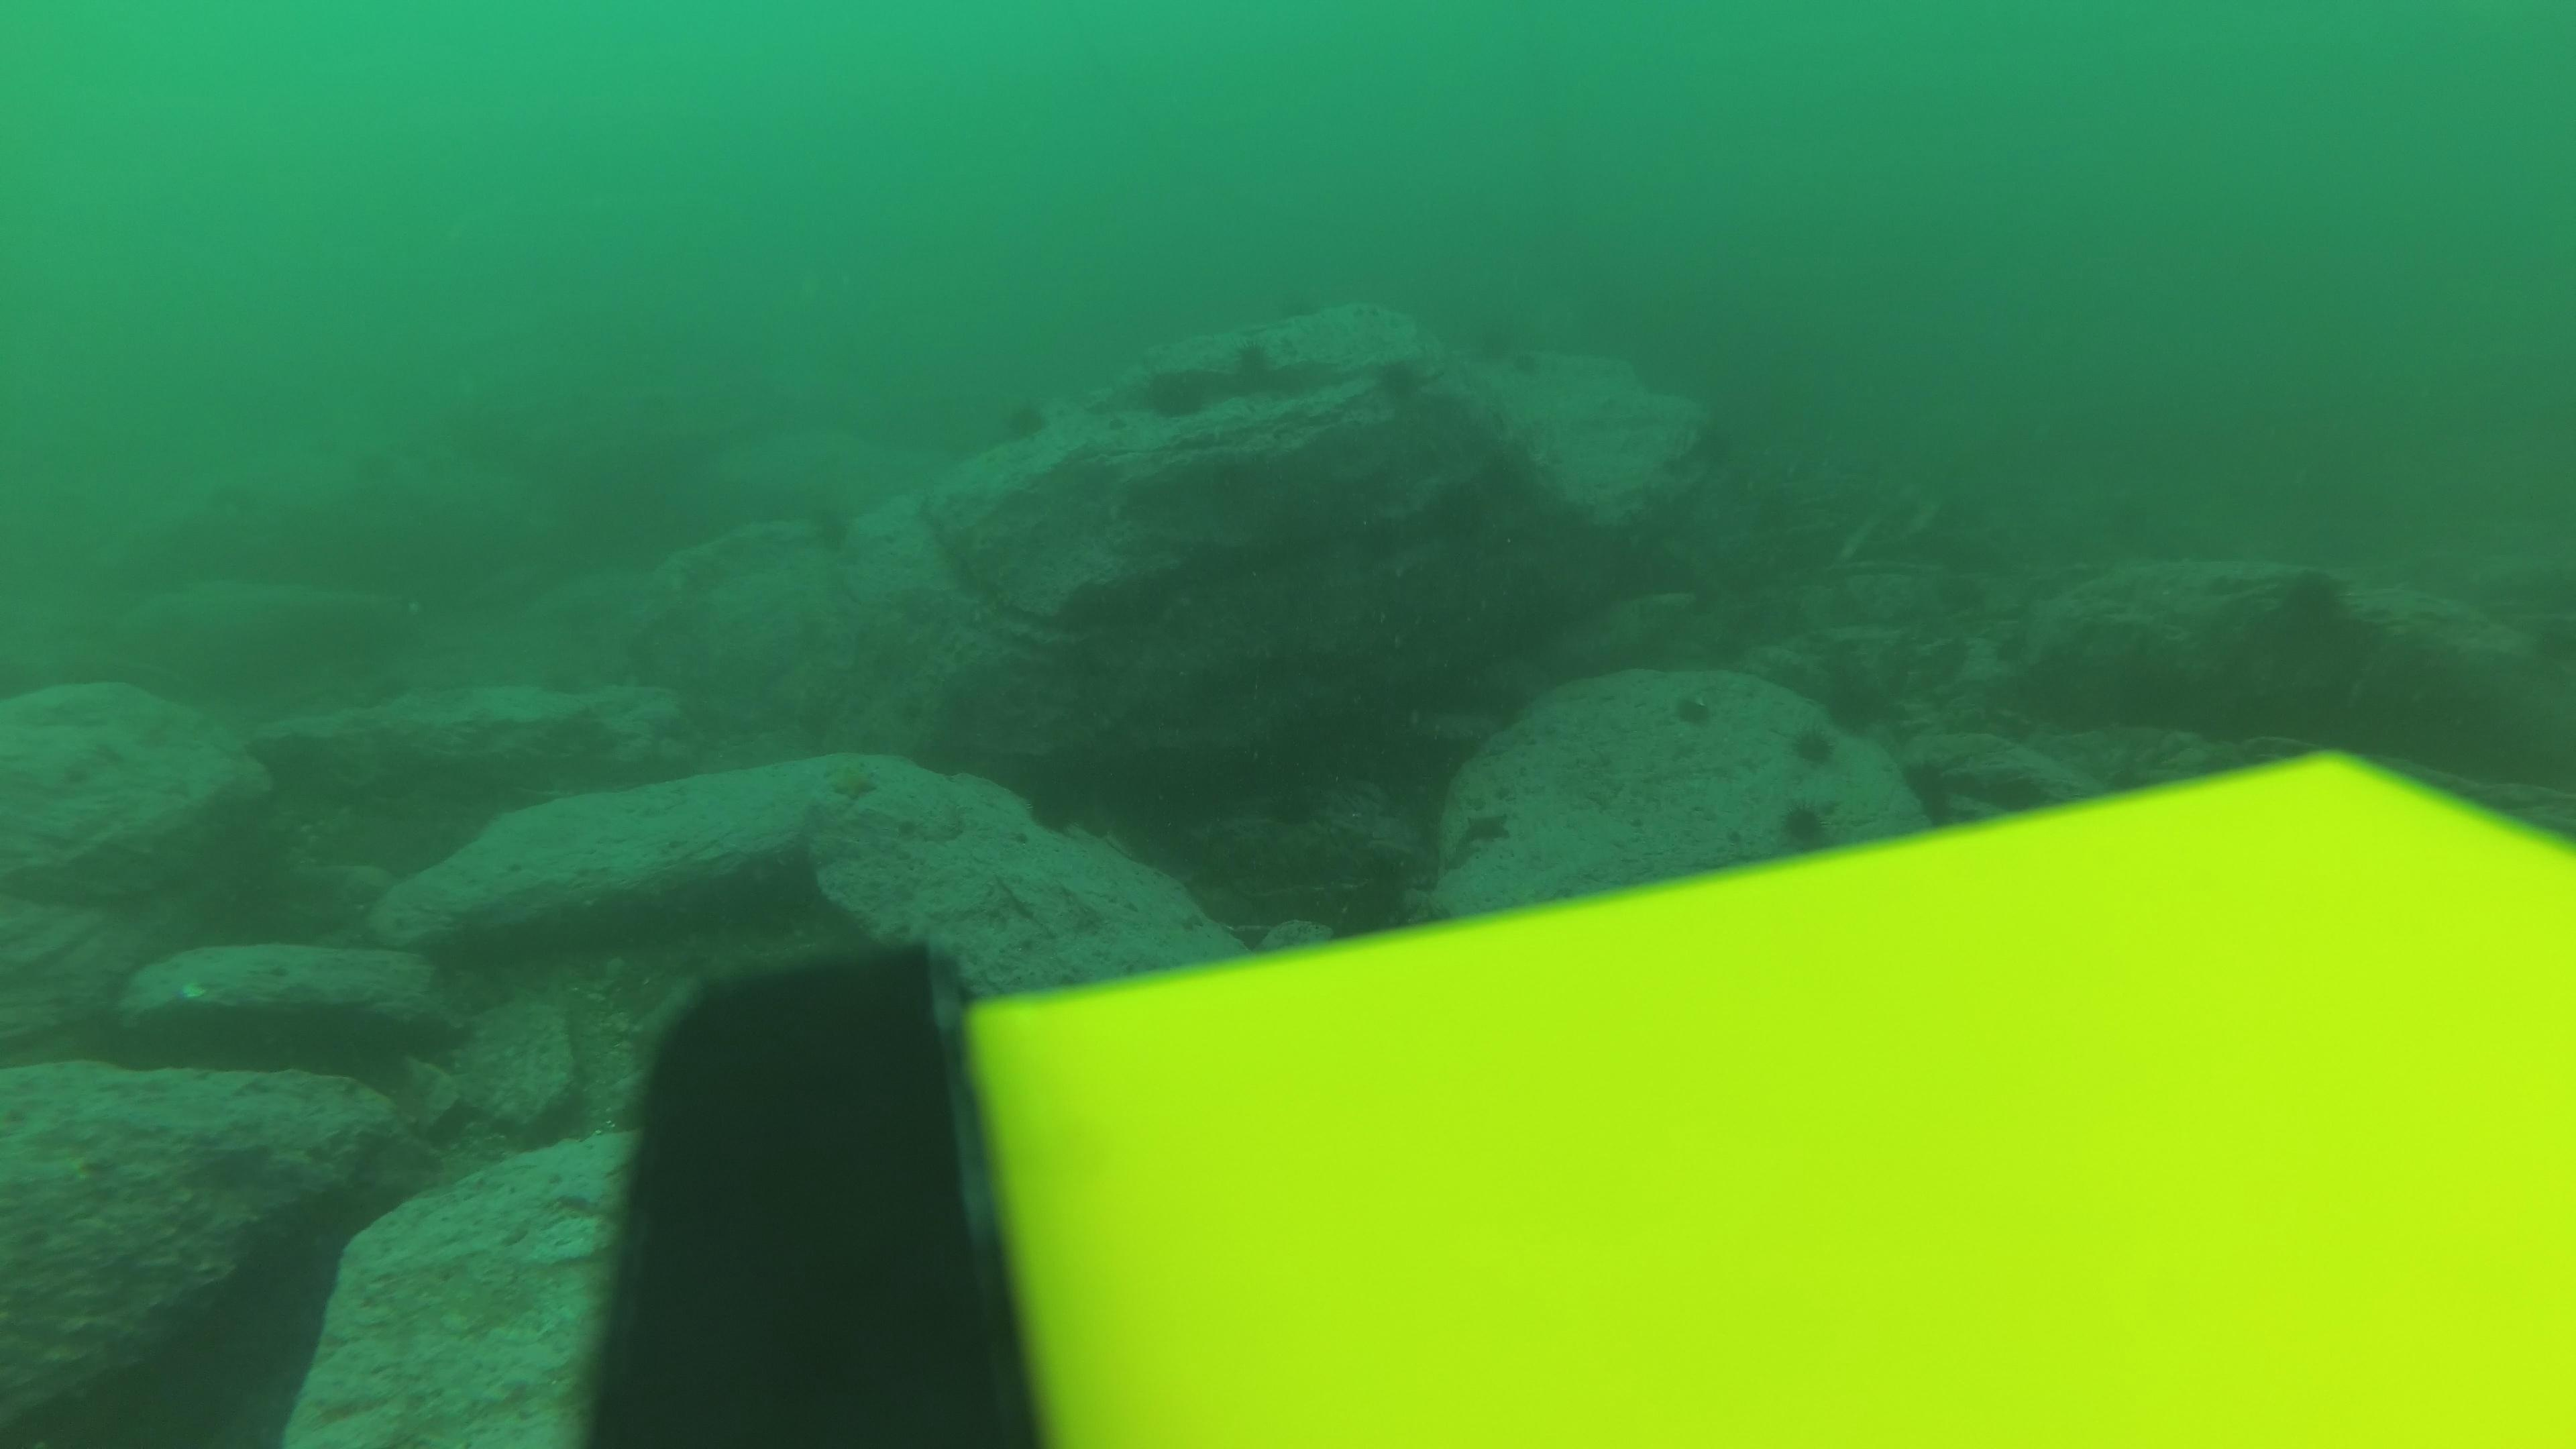echinus: (2270, 564, 2358, 640), (1134, 359, 1215, 425), (1771, 793, 1844, 856), (1368, 352, 1435, 412), (1783, 718, 1842, 773), (1226, 336, 1283, 391), (998, 391, 1053, 446), (1665, 685, 1720, 734)
starfish: (1454, 801, 1516, 853), (823, 761, 883, 807)
